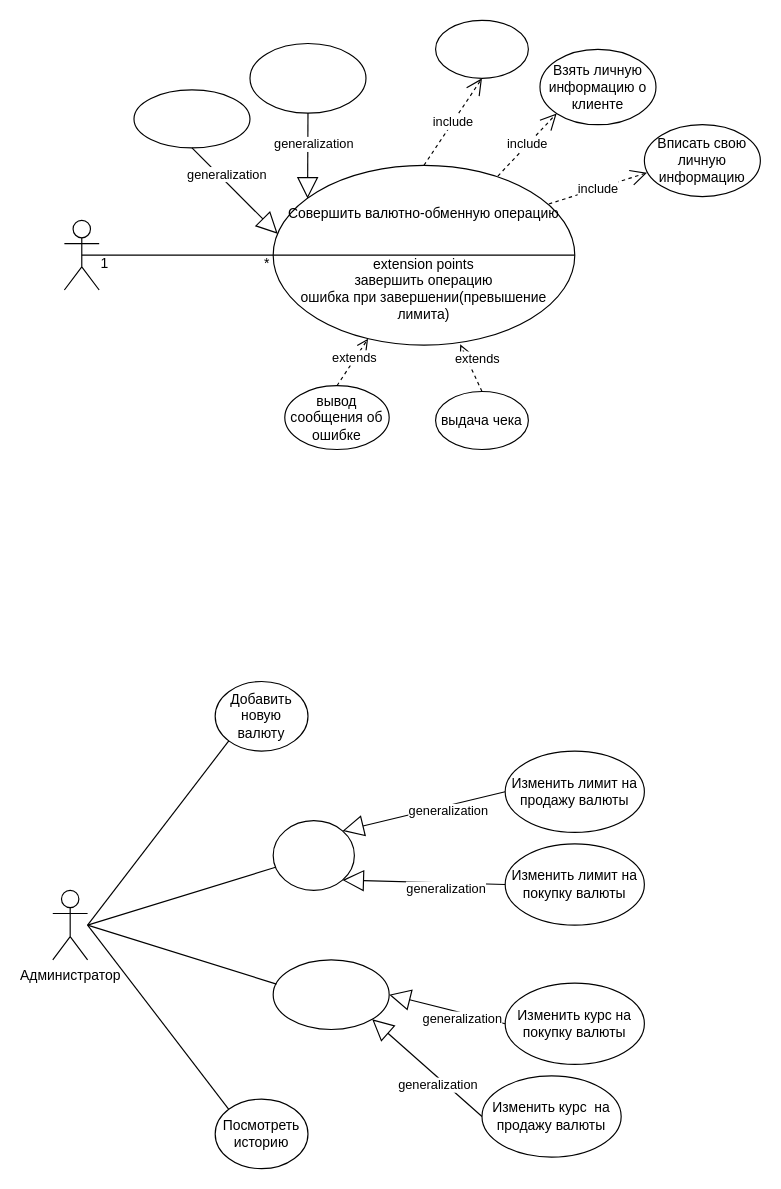
Image size: 781x1189. Some labels were removed from this diagram. Each missing label, with the centre of its shape:
"Изменить курс обмена валют" belongs at point (330, 994).
"Изменить лимит" belongs at point (313, 855).
"Клиент" belongs at point (81, 254).
"Покупка валюты" belongs at point (191, 118).
"Принять валюту" belongs at point (481, 48).
"Продажа валюты" belongs at point (307, 77).
